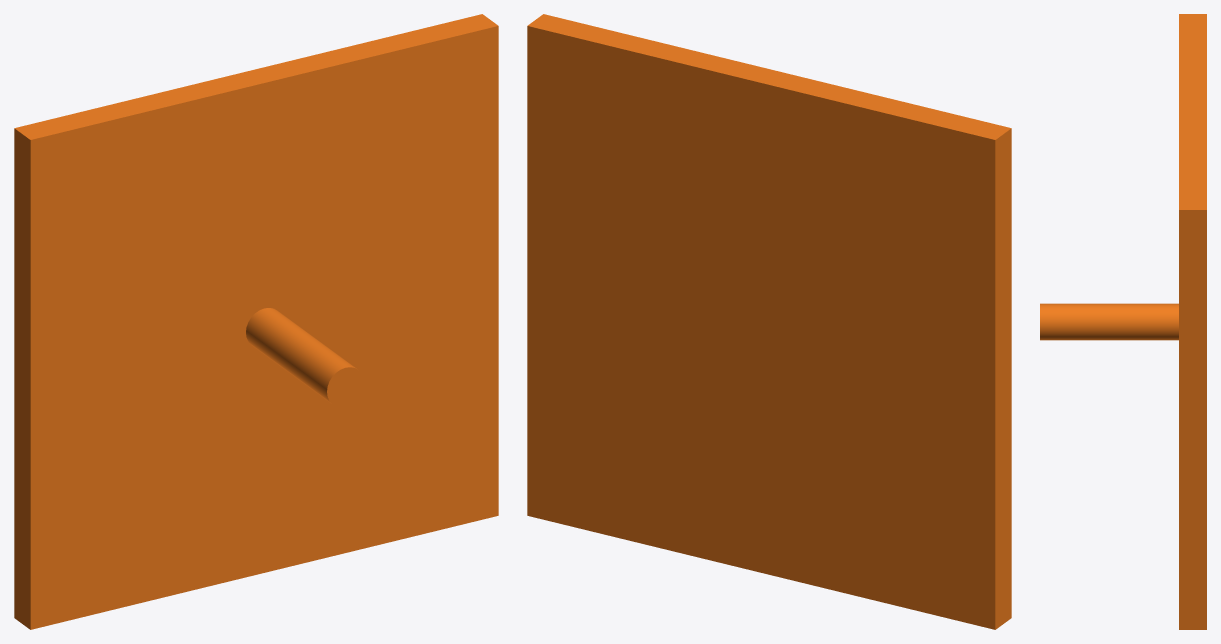
3 views of the same model, side by side, from view 1: azimuth 30°, elevation 25°; view 2: azimuth 150°, elevation 25°; view 3: azimuth 270°, elevation 25° (orthographic). The views are drawn at different scales.
Parts seen in each view (by area): view 1: gripper_frame; view 2: gripper_frame; view 3: gripper_frame.
Part boxes in pixels (x1=…): gripper_frame: x1=14, y1=14, x2=498, y2=629; gripper_frame: x1=527, y1=14, x2=1011, y2=629; gripper_frame: x1=1040, y1=14, x2=1206, y2=629.
Size of the model in its own units: 0.2 by 0.2 by 0.072.
